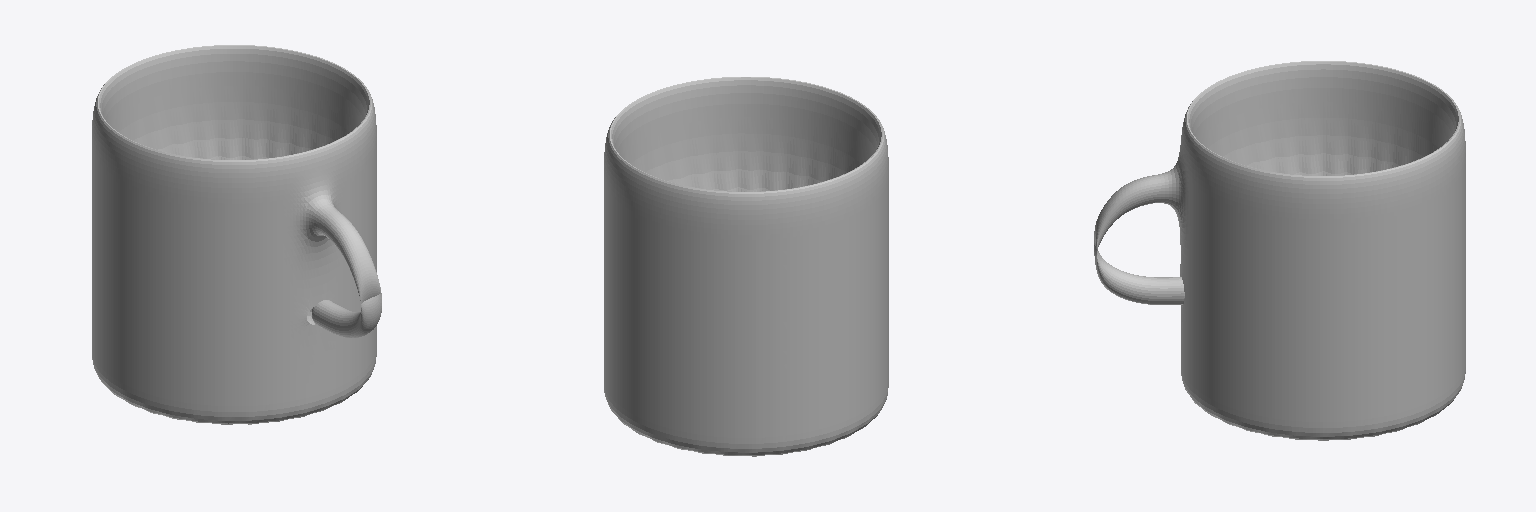
The model's file is cana.obj.
The picture shows the model from 3 angles: view 1: azimuth 30°, elevation 25°; view 2: azimuth 150°, elevation 25°; view 3: azimuth 270°, elevation 25°; orthographic projection.
Visible parts, largest first — view 1: Cylinder_Cylinder.001; view 2: Cylinder_Cylinder.001; view 3: Cylinder_Cylinder.001.
Boxes of the visible parts, x1=… form: Cylinder_Cylinder.001: x1=92, y1=45, x2=381, y2=424; Cylinder_Cylinder.001: x1=604, y1=77, x2=888, y2=456; Cylinder_Cylinder.001: x1=1094, y1=61, x2=1465, y2=440.
Bounding box in the file's own units: 2.7 × 2.88 × 3.53.